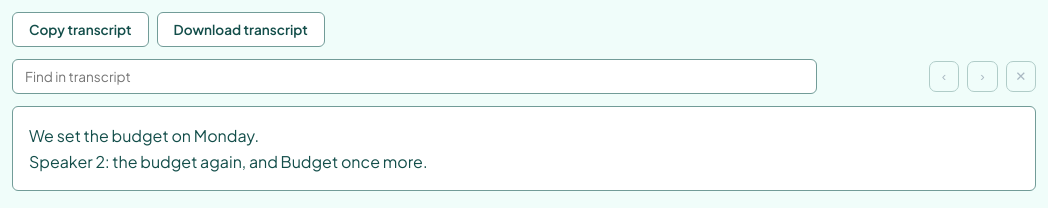
Scenario: 52-A: wraps around from the last match to the first
The width and height of the screenshot is (1048, 208).
In the field labelled "Find in transcript": (414, 76) [12,59,817,94], type "budget"
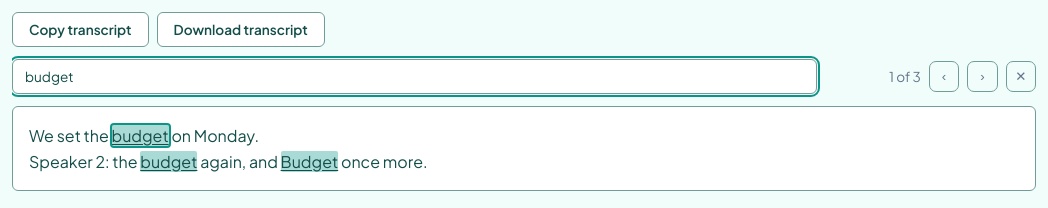
Click the button named "Next match": (982, 76) [967,61,998,92]
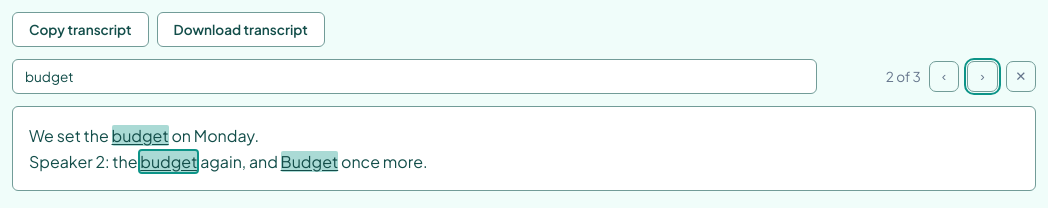
Click the button named "Next match": (982, 76) [967,61,998,92]
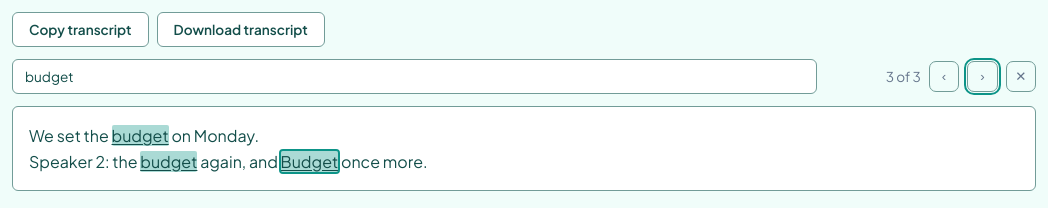
Now the message with test id "transcript-find-count" reads "3 of 3", box [886,68,921,85]
Click the button named "Next match": (982, 76) [967,61,998,92]
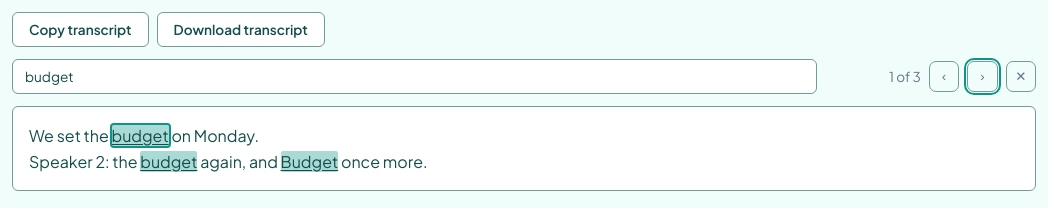
Now the message with test id "transcript-find-count" reads "1 of 3", box [889,68,921,85]
